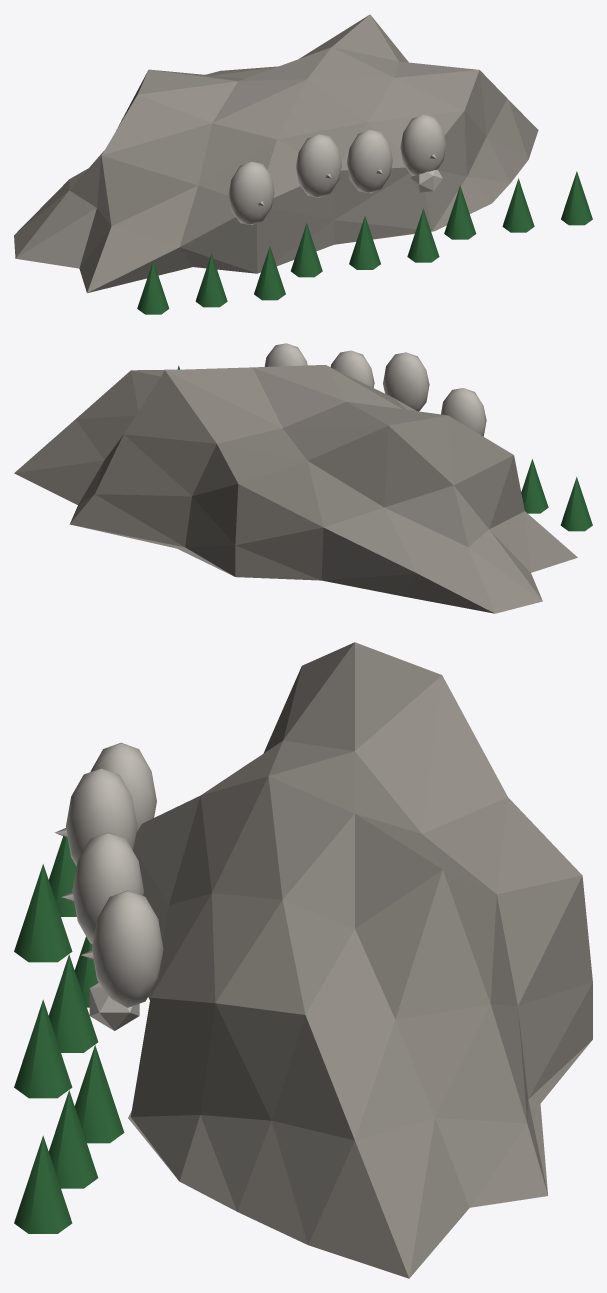
The picture shows the model from 3 angles, top to bottom: view 1: azimuth 30°, elevation 25°; view 2: azimuth 150°, elevation 25°; view 3: azimuth 270°, elevation 25°; orthographic projection. The views are drawn at different scales.
Size of the model in its own units: 338 by 91.37 by 178.
